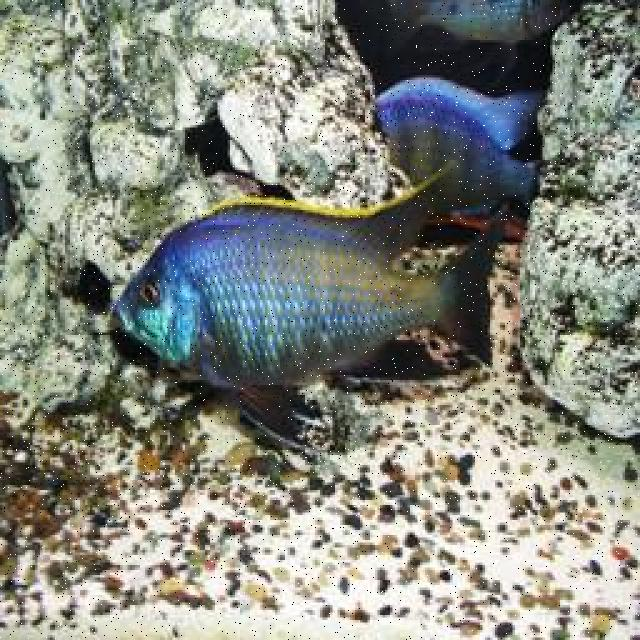fish: (109, 159, 508, 448), (375, 76, 549, 211)
